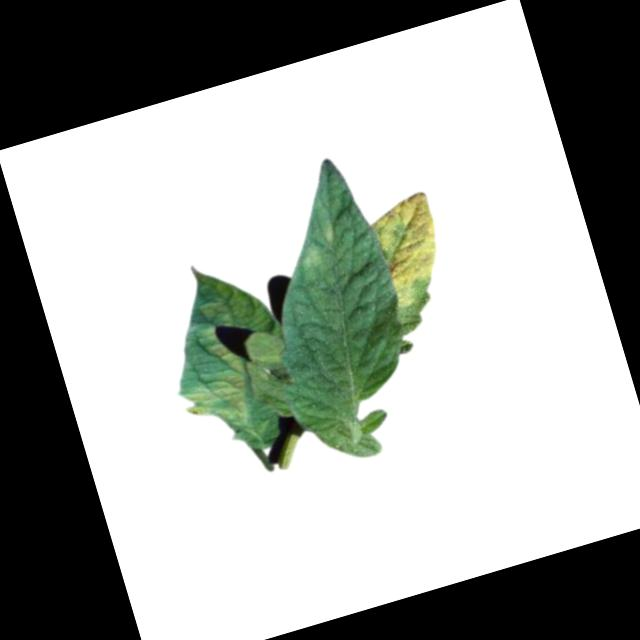Leaf_Mold: (148, 263, 303, 445), (363, 189, 459, 314), (289, 221, 344, 272)
